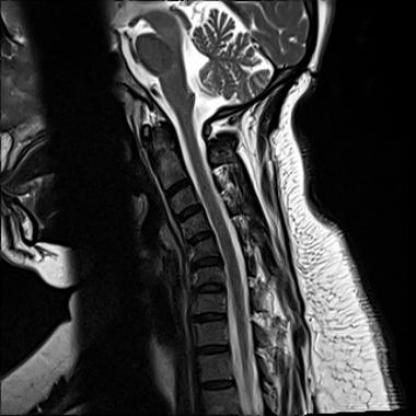Disc Bulgerotation: (191, 255, 223, 271), (188, 231, 215, 246)
